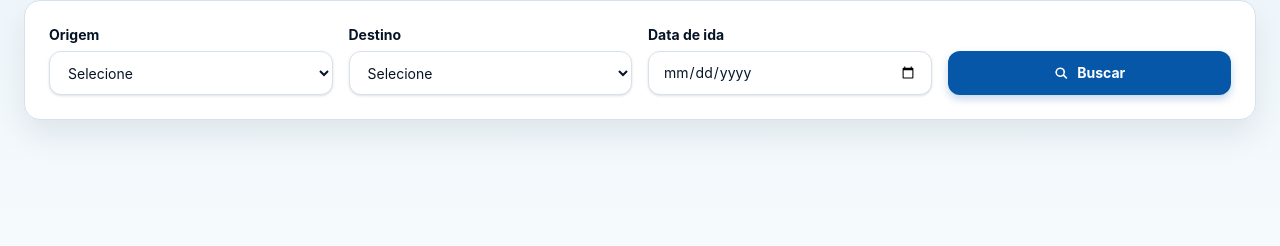
SearchForm › exibe erro quando origem e destino são iguais
This screenshot has width=1280, height=246.
Select "Rio de Janeiro" in the dropdown labelled "Origem" at (191, 73), box [49, 51, 332, 95]
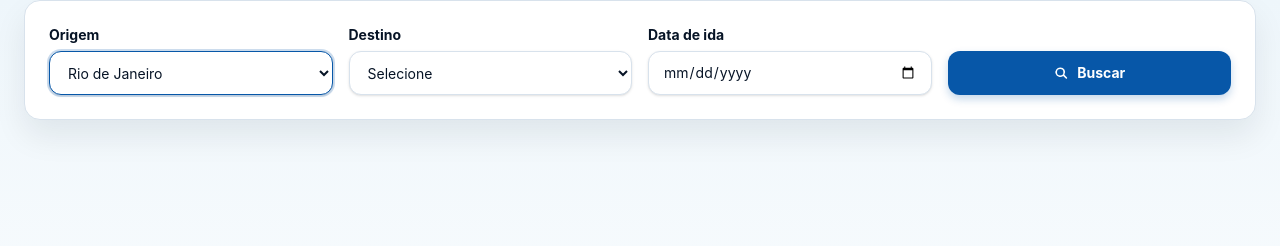
Select "Rio de Janeiro" in the dropdown labelled "Destino" at (490, 73), box [348, 51, 632, 95]
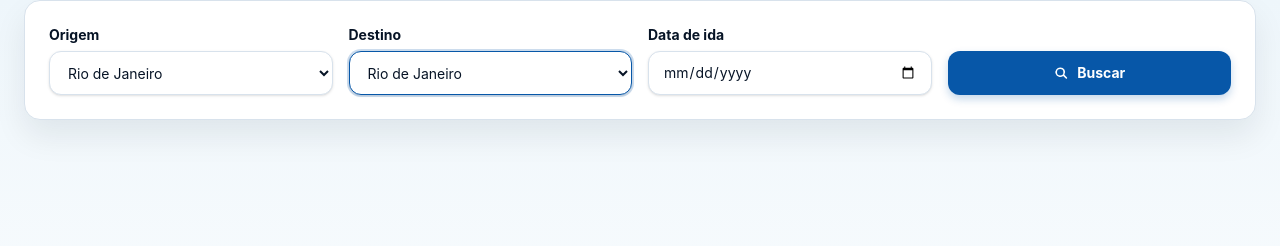
Type "2026-12-01" into the date field labelled "Data de ida".
click(790, 73); type("2026-12-01")  # box [648, 51, 932, 95]
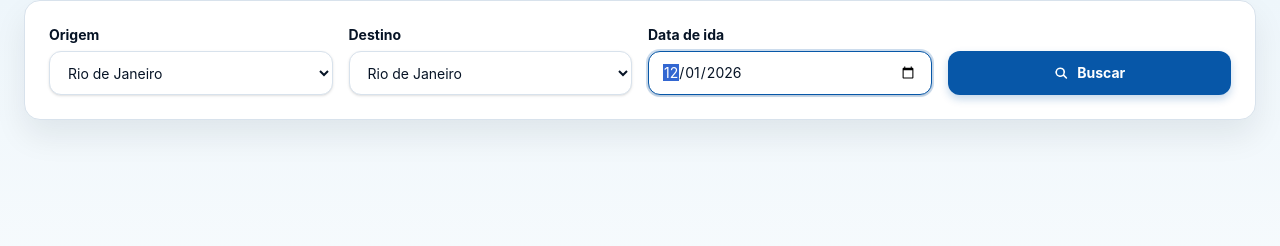
Click the button "Buscar".
click(1089, 73)  # box [948, 51, 1231, 95]
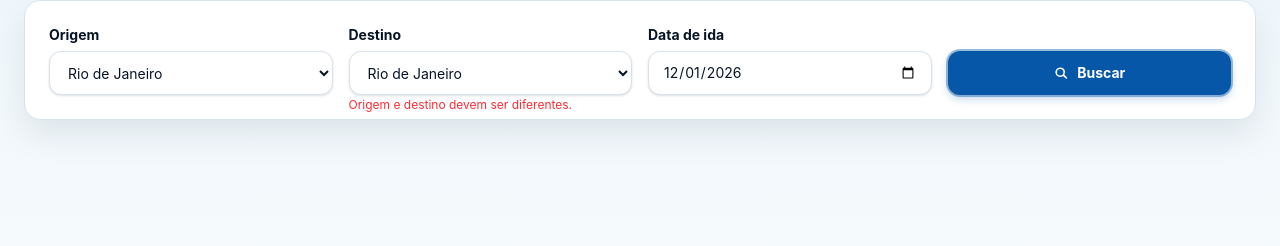
Now the text "Origem e destino devem ser diferentes." is shown, box [348, 97, 572, 113]
